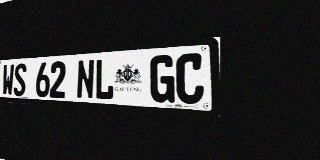2: (50, 61, 66, 98)
6: (35, 62, 50, 97)
C: (176, 53, 204, 104)
G: (149, 54, 175, 103)
L: (94, 58, 114, 100)
N: (76, 59, 95, 99)
S: (13, 63, 26, 96)
W: (2, 64, 14, 96)
